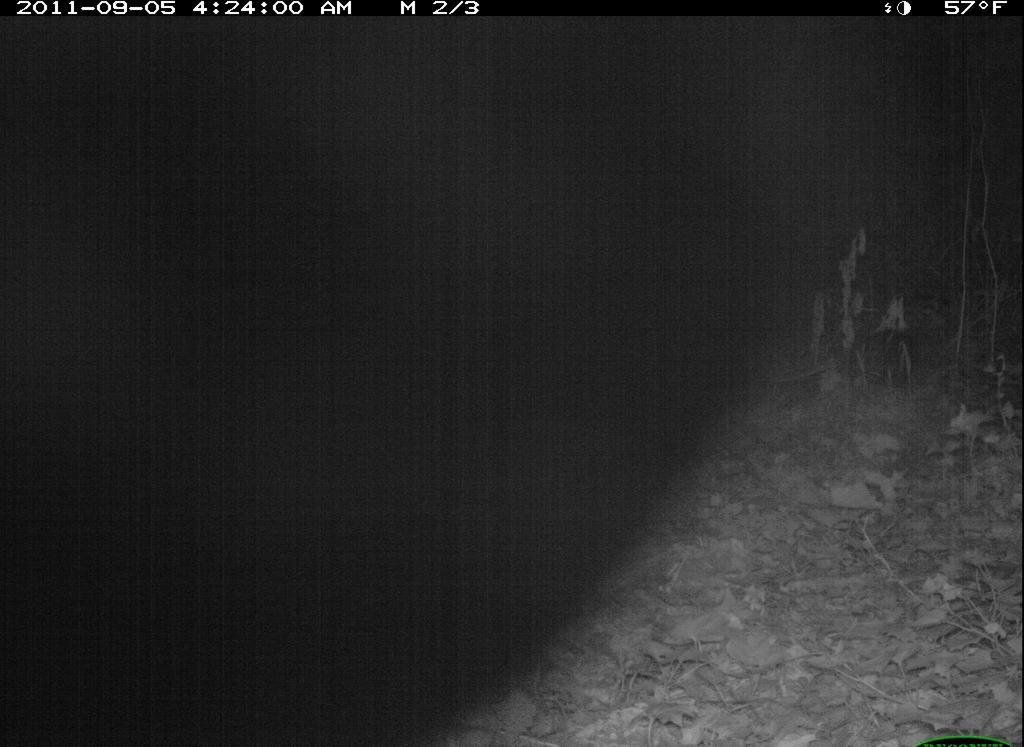opossum: (9, 2, 888, 747)
